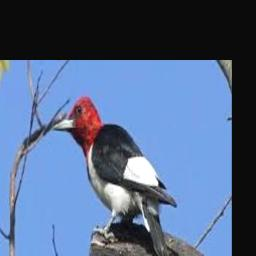Woodpecker: (52, 96, 176, 256)
